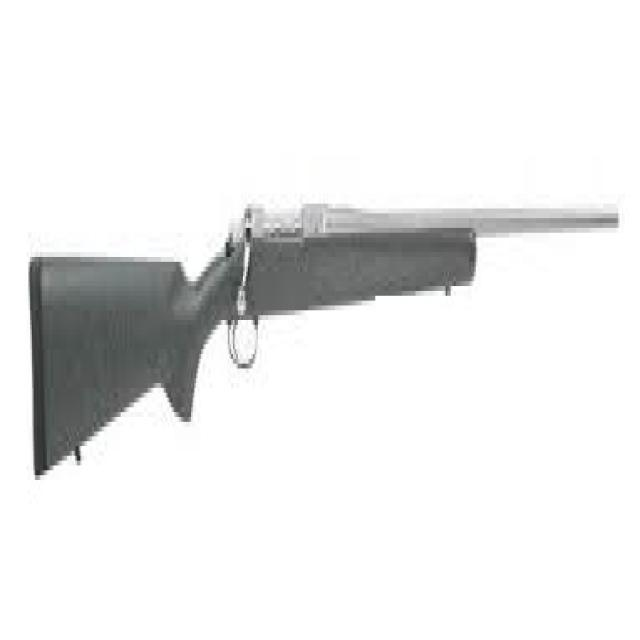rifle: (21, 166, 623, 499)
